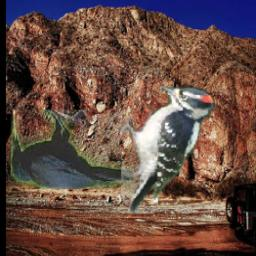Crow: (12, 111, 134, 190)
Woodpecker: (121, 82, 215, 214)
